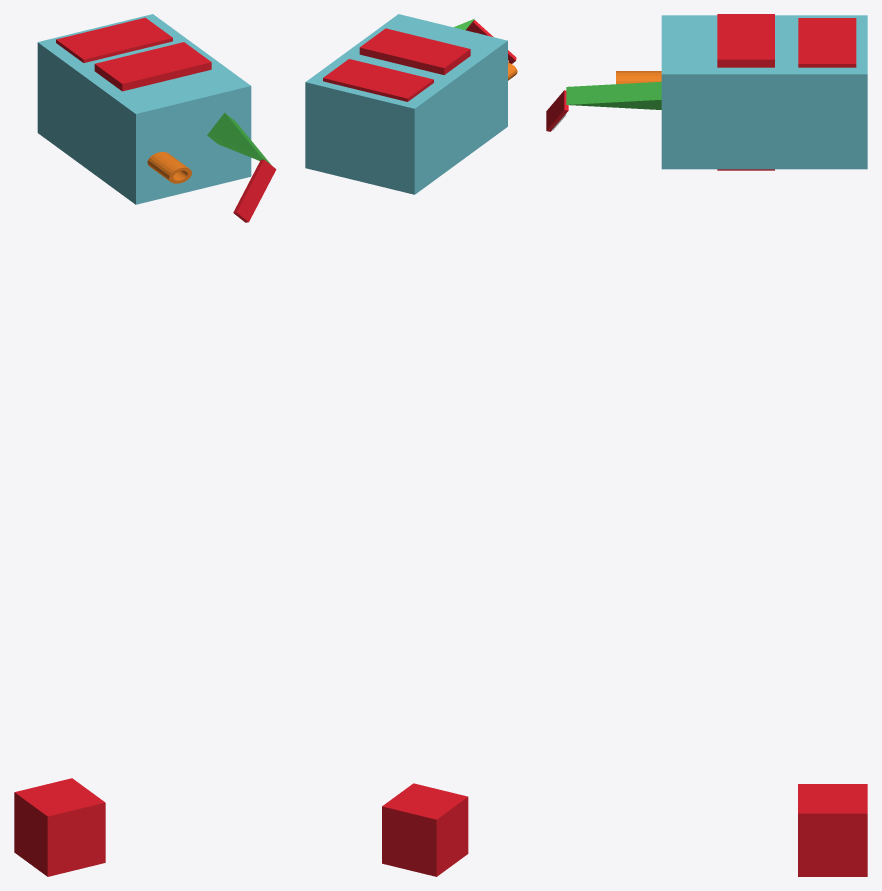
Rendered from tinker.obj.
3 renders of one model, left to right at view 1: azimuth 30°, elevation 25°; view 2: azimuth 150°, elevation 25°; view 3: azimuth 270°, elevation 25°, orthographic. The views are drawn at different scales.
Visible parts, largest first — view 1: group_0_7720667, group_0_15277357, group_0_4634441, group_0_16089887; view 2: group_0_7720667, group_0_15277357; view 3: group_0_7720667, group_0_15277357, group_0_4634441.
Boxes of the visible parts, left/top/right/bottom form: group_0_7720667: left=37, top=14, right=251, bottom=204; group_0_15277357: left=14, top=17, right=276, bottom=876; group_0_4634441: left=207, top=112, right=271, bottom=165; group_0_16089887: left=147, top=152, right=191, bottom=183; group_0_7720667: left=305, top=14, right=507, bottom=194; group_0_15277357: left=323, top=19, right=516, bottom=876; group_0_7720667: left=661, top=15, right=867, bottom=169; group_0_15277357: left=546, top=14, right=867, bottom=876; group_0_4634441: left=566, top=81, right=661, bottom=109.
Size of the model in its own units: 48 by 269 by 92.
